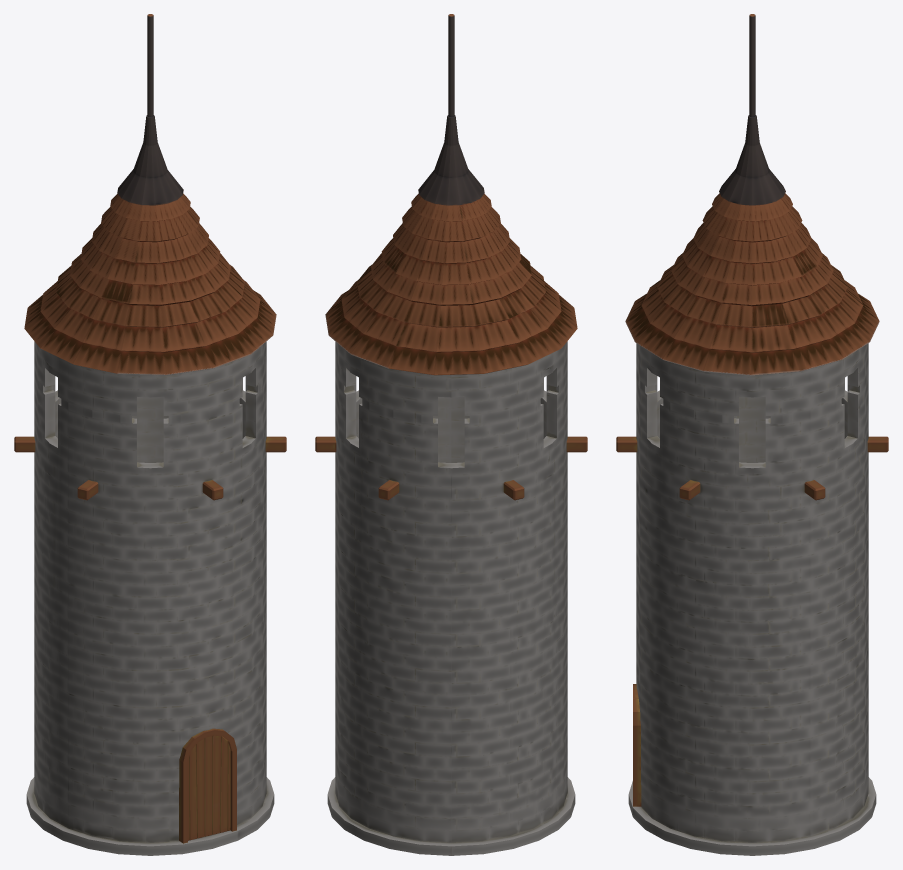
File: Map_City.gltf
3 renders of one model, left to right at view 1: azimuth 30°, elevation 25°; view 2: azimuth 150°, elevation 25°; view 3: azimuth 270°, elevation 25°, orthographic.
Parts seen in each view (by area): view 1: Stone_Tower_Roof; view 2: Stone_Tower_Roof; view 3: Stone_Tower_Roof.
Part boxes in pixels (box(x1,y1,x2,y2)): Stone_Tower_Roof: box(14, 14, 286, 855); Stone_Tower_Roof: box(315, 14, 587, 855); Stone_Tower_Roof: box(616, 14, 888, 855).
Size of what is drawn, in the model's own units: 15.6 by 53.36 by 16.72.
Materials: 1 (1 with a texture image).
